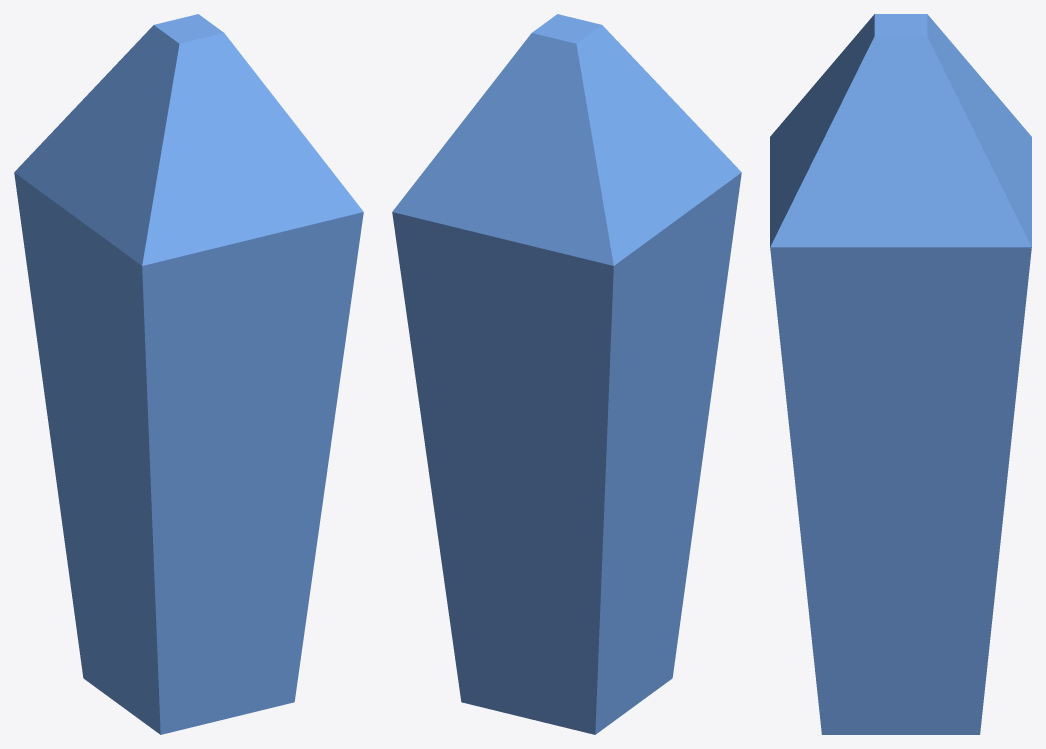
Rendered from Crystal_Blue_F.fbx.
The picture shows the model from 3 angles, left to right: view 1: azimuth 30°, elevation 25°; view 2: azimuth 150°, elevation 25°; view 3: azimuth 270°, elevation 25°; orthographic projection. The views are drawn at different scales.
Parts seen in each view (by area): view 1: Crystal_Blue_F; view 2: Crystal_Blue_F; view 3: Crystal_Blue_F.
Part boxes in pixels (x1,y1,x2,y2): Crystal_Blue_F: [14, 14, 363, 734]; Crystal_Blue_F: [392, 14, 741, 734]; Crystal_Blue_F: [770, 14, 1031, 734].
Size of the model in its own units: 60.54 by 173 by 60.54.
